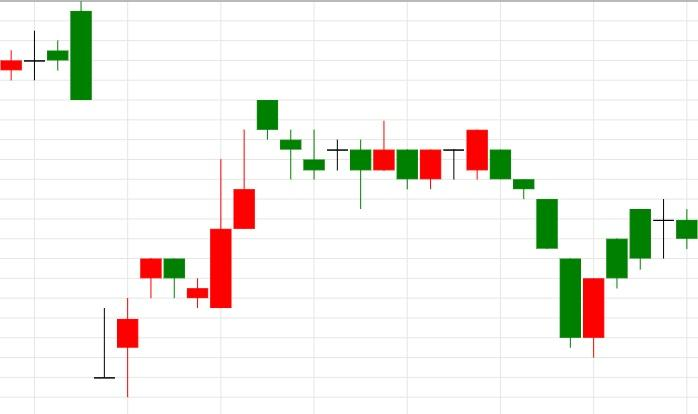three_black_crows_fall: (186, 99, 326, 309)
